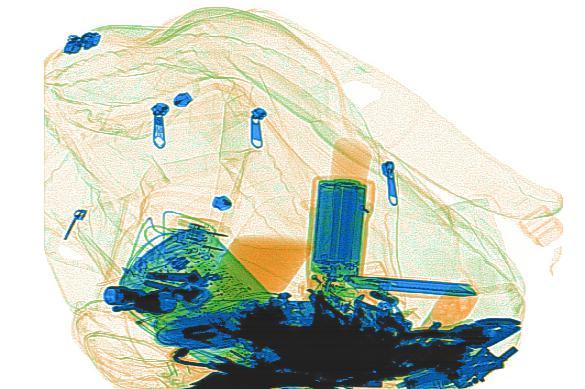battery: (312, 176, 367, 281)
knife: (338, 272, 484, 298)
